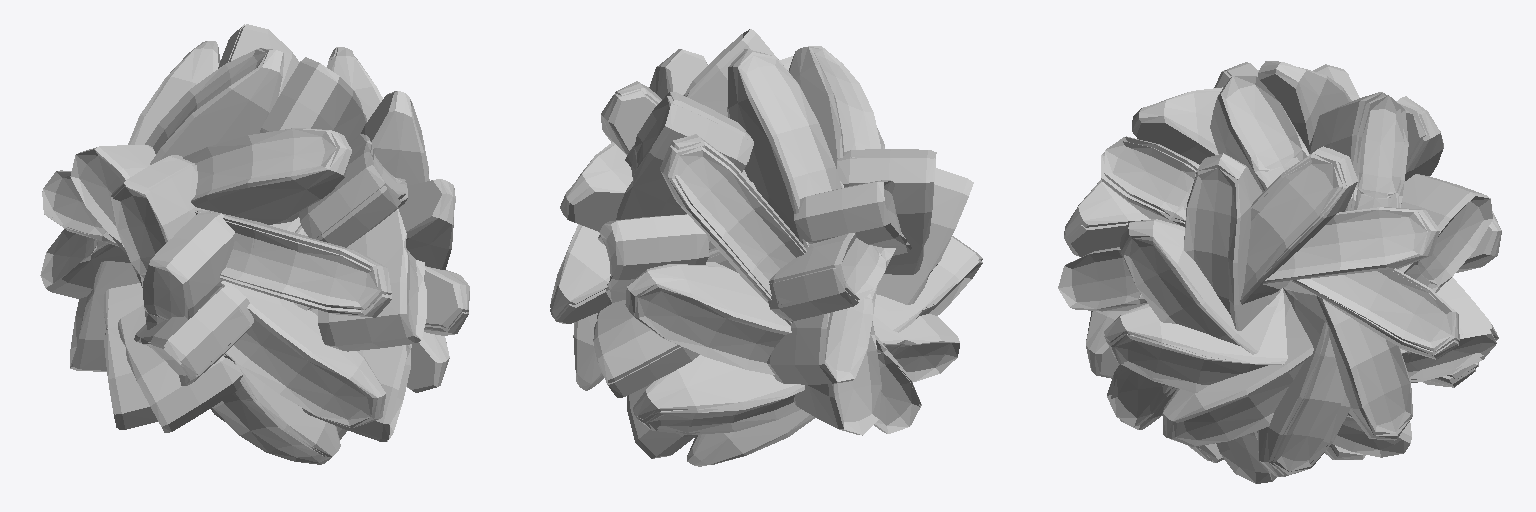
File: Мрамор.obj
3 views of the same model, side by side, from view 1: azimuth 30°, elevation 25°; view 2: azimuth 150°, elevation 25°; view 3: azimuth 270°, elevation 25° (orthographic).
Parts seen in each view (by area): view 1: 4; view 2: 4; view 3: 4.
Part boxes in pixels (bbox=[...]): 4: bbox=[40, 24, 469, 464]; 4: bbox=[550, 29, 982, 466]; 4: bbox=[1058, 61, 1501, 483].
Bounding box in the file's own units: 2.44 × 3.03 × 3.02.